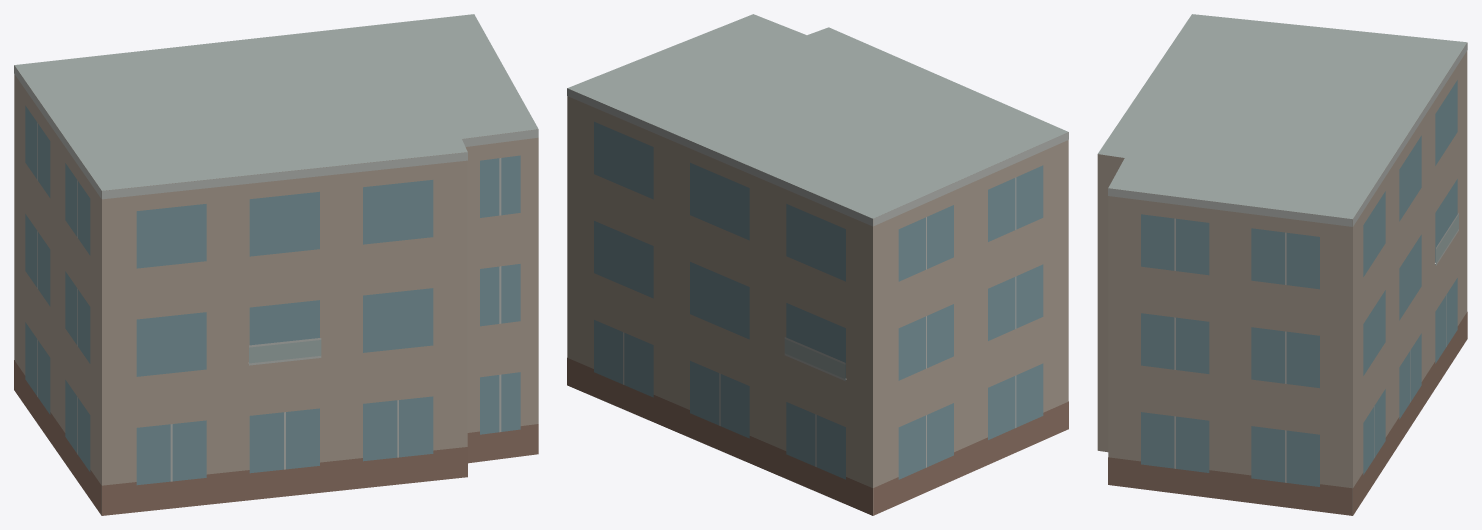
Rendered from survey-upis-33009505.glb.
3 renders of one model, left to right at view 1: azimuth 30°, elevation 25°; view 2: azimuth 150°, elevation 25°; view 3: azimuth 270°, elevation 25°, orthographic. The views are drawn at different scales.
Visible parts, largest first — view 1: survey-upis-33009505.tmp; view 2: survey-upis-33009505.tmp; view 3: survey-upis-33009505.tmp.
Part boxes in pixels (x1,y1,x2,y2): survey-upis-33009505.tmp: (14, 14, 538, 515); survey-upis-33009505.tmp: (567, 14, 1068, 515); survey-upis-33009505.tmp: (1097, 14, 1467, 515).
Bounding box in the file's own units: 13.8 × 9.3 × 10.52.
